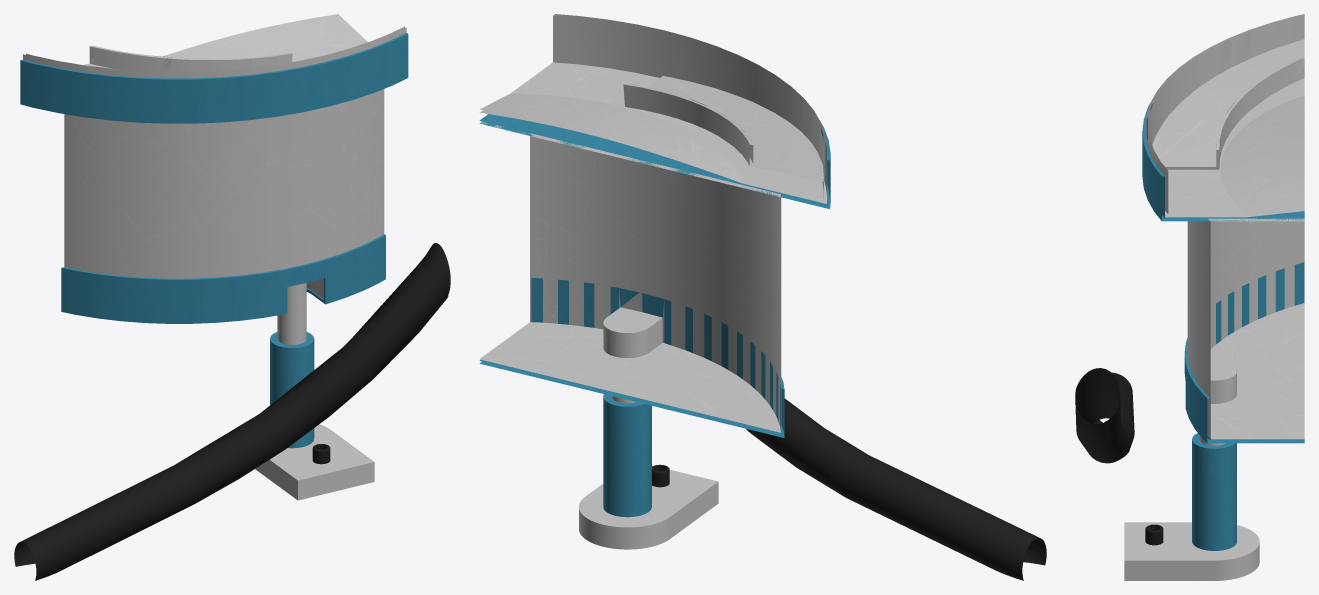
The model's file is TightenerStation_Cube14.glb.
3 renders of one model, left to right at view 1: azimuth 30°, elevation 25°; view 2: azimuth 150°, elevation 25°; view 3: azimuth 270°, elevation 25°, orthographic. The views are drawn at different scales.
Parts seen in each view (by area): view 1: color-2.016; view 2: color-2.016; view 3: color-2.016.
Boxes of the visible parts, <box> form: color-2.016: <box>14,14,450,580</box>; color-2.016: <box>479,14,1046,580</box>; color-2.016: <box>1075,14,1304,580</box>.
Size of the model in its own units: 0.32 by 0.32 by 0.1527.
3 materials, 3 textured.
